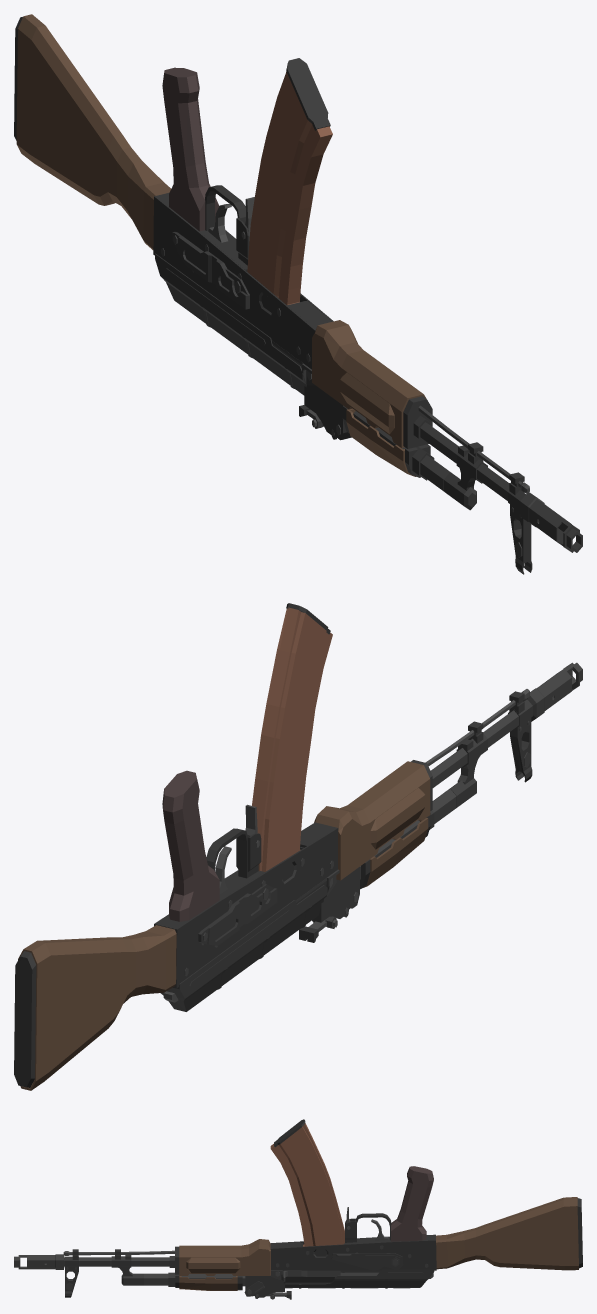
File: fuzil.gltf
The picture shows the model from 3 angles, top to bottom: view 1: azimuth 30°, elevation 25°; view 2: azimuth 150°, elevation 25°; view 3: azimuth 270°, elevation 25°; orthographic projection. The views are drawn at different scales.
Parts seen in each view (by area): view 1: fuzil; view 2: fuzil; view 3: fuzil.
Boxes of the visible parts, box(x1,y1,x2,y2) form: fuzil: box(14, 14, 582, 574); fuzil: box(14, 603, 582, 1090); fuzil: box(14, 1119, 582, 1299).
Size of the model in its own units: 0.0528 by 0.3234 by 0.94.
